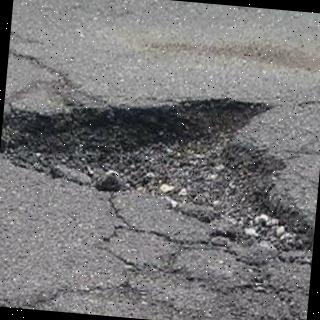pothole: (0, 99, 314, 252)
